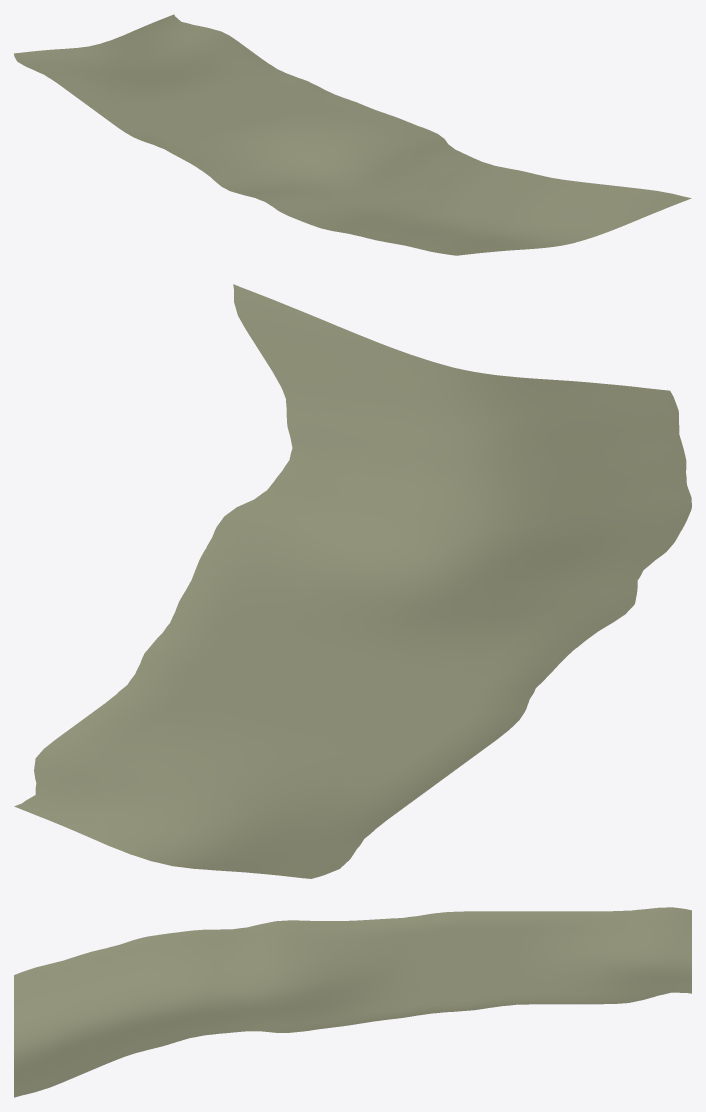
File: SM_ForestBed_WestFord.fbx
3 views of the same model, one above another, from view 1: azimuth 30°, elevation 25°; view 2: azimuth 150°, elevation 25°; view 3: azimuth 270°, elevation 25° (orthographic). The views are drawn at different scales.
Visible parts, largest first — view 1: SM_ForestBed_WestFord; view 2: SM_ForestBed_WestFord; view 3: SM_ForestBed_WestFord.
Boxes of the visible parts, x1,y1,x2,y2 form: SM_ForestBed_WestFord: (14, 14, 691, 255); SM_ForestBed_WestFord: (14, 284, 691, 878); SM_ForestBed_WestFord: (14, 907, 691, 1097).
Size of the model in its own units: 1263 by 1900 by 53.67.
